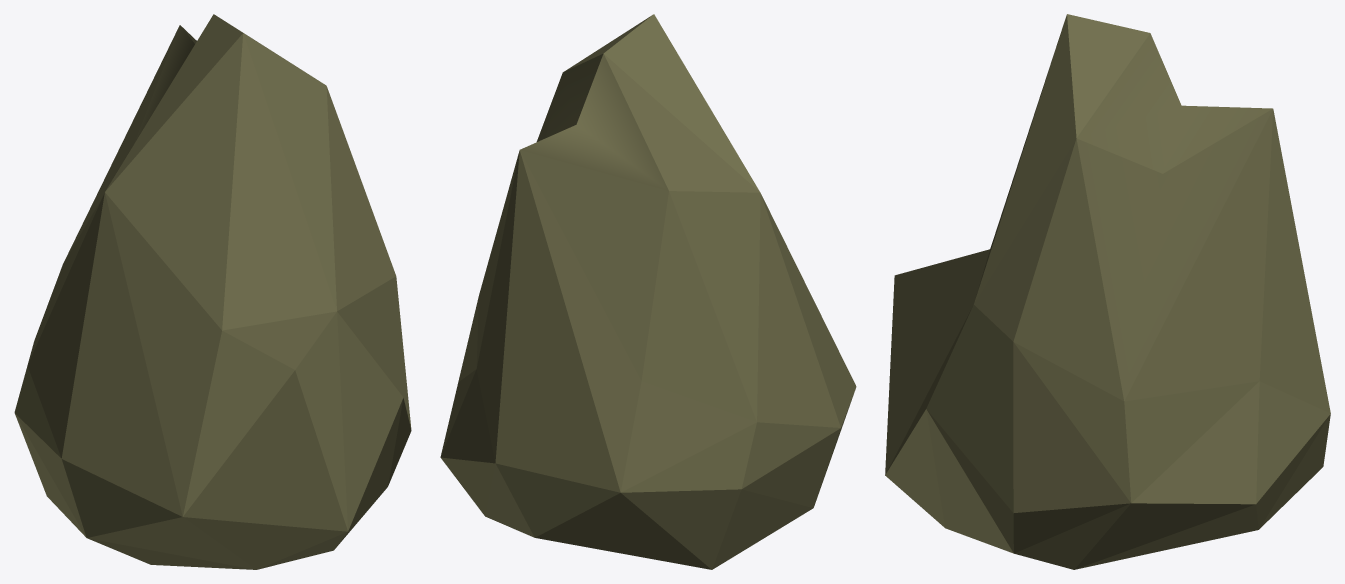
The model's file is SM_Env_Bush_Small_02.glb.
The picture shows the model from 3 angles, left to right: view 1: azimuth 30°, elevation 25°; view 2: azimuth 150°, elevation 25°; view 3: azimuth 270°, elevation 25°; orthographic projection. The views are drawn at different scales.
Parts seen in each view (by area): view 1: SM_Env_Bush_Small_02; view 2: SM_Env_Bush_Small_02; view 3: SM_Env_Bush_Small_02.
Part boxes in pixels (x1=…): SM_Env_Bush_Small_02: x1=14, y1=14, x2=411, y2=569; SM_Env_Bush_Small_02: x1=440, y1=14, x2=856, y2=569; SM_Env_Bush_Small_02: x1=885, y1=14, x2=1330, y2=569.
Bounding box in the file's own units: 0.8192 × 1.12 × 0.8665.
Materials: 1 (1 with a texture image).
